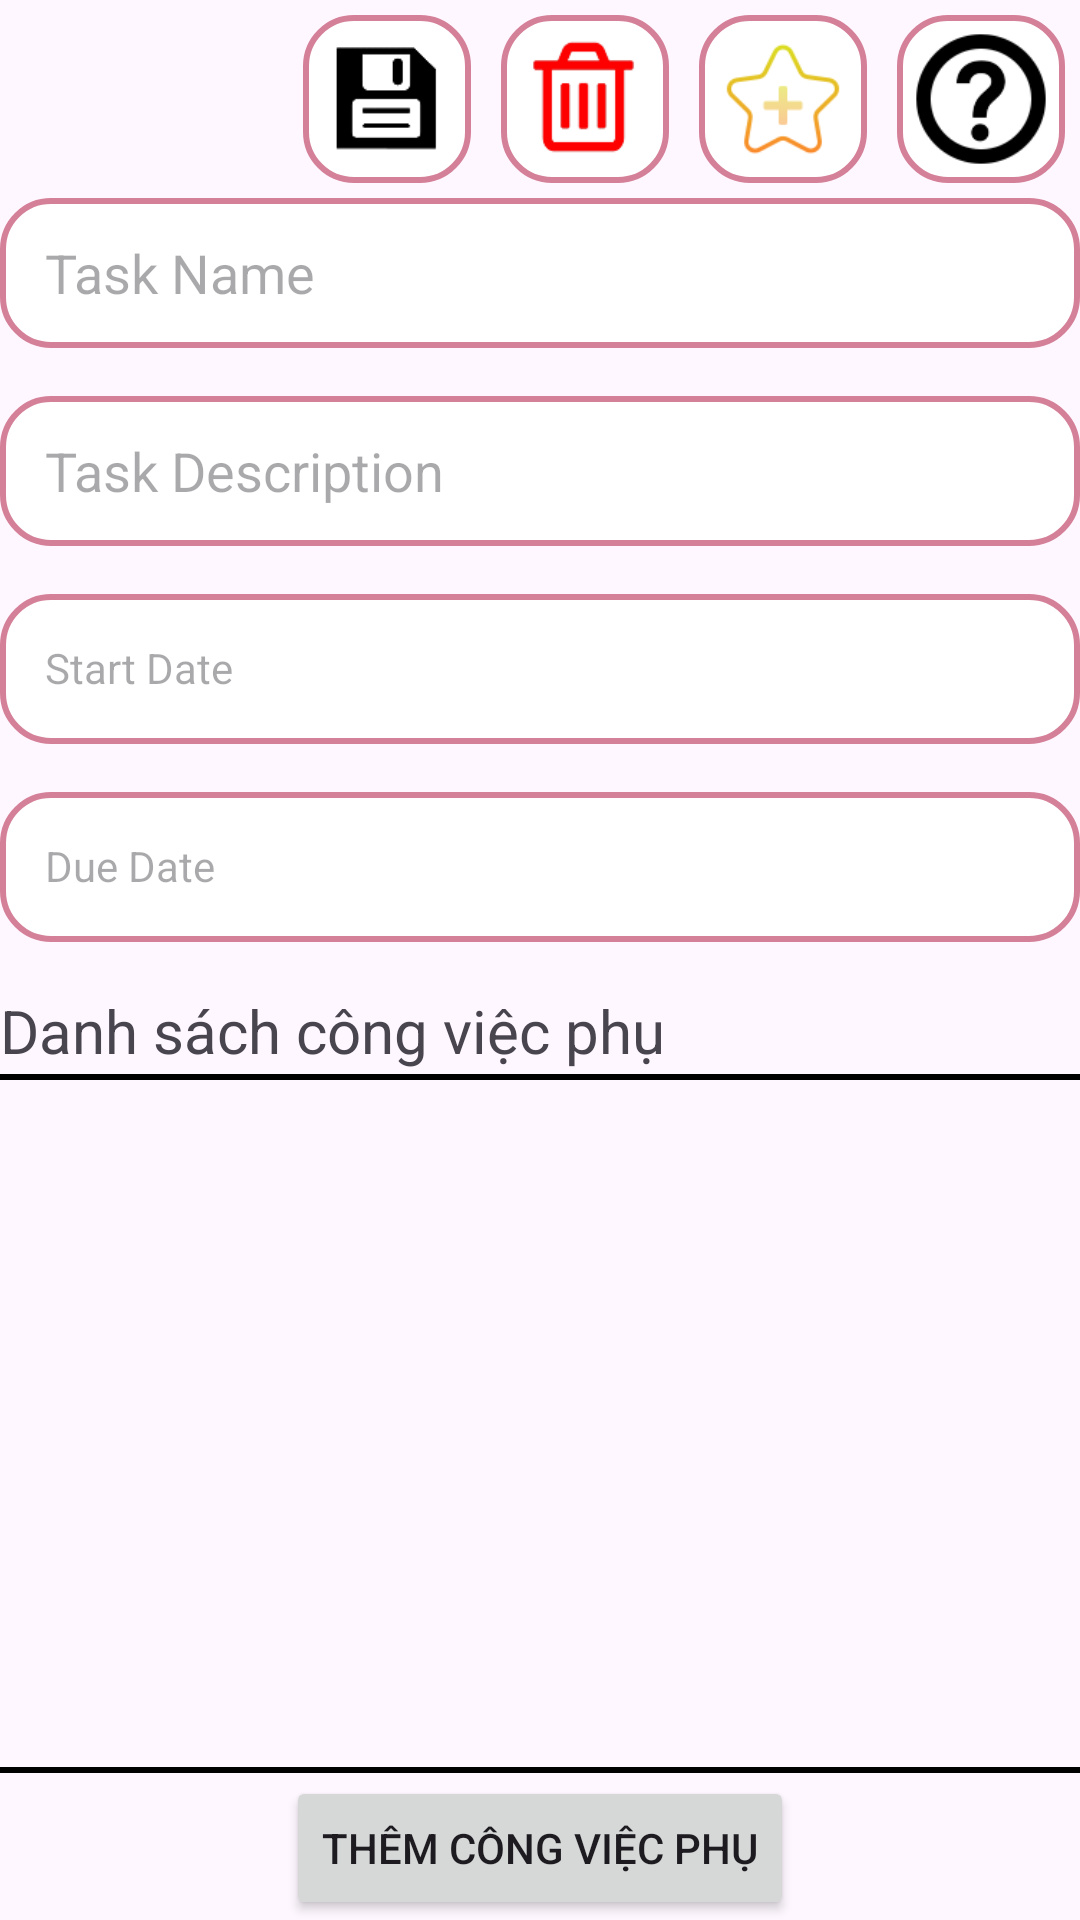

Icons on this 1080px x 1920px Android screen, each with its box as (x1, y1, x2, y2):
Favorite: (699, 15, 867, 183)
save enable: (303, 15, 471, 183)
trash: (501, 15, 669, 183)
